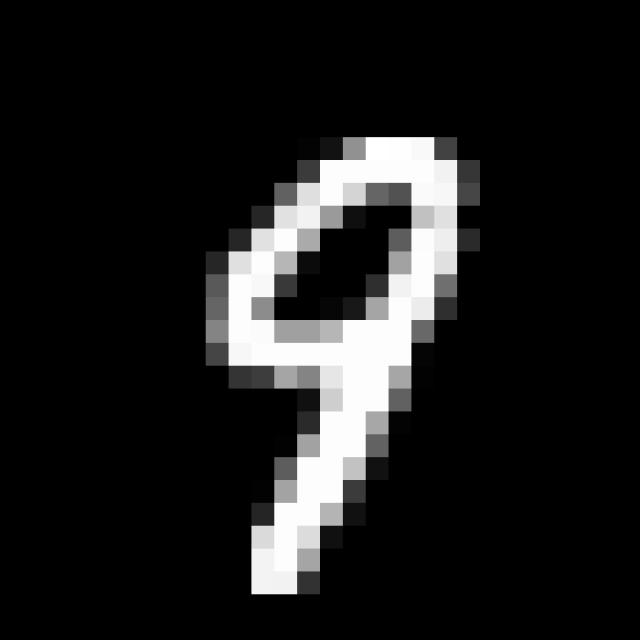nine -9-: (206, 125, 480, 595)
